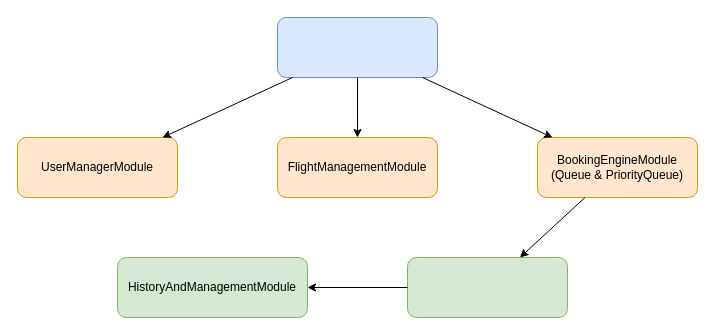
The diagram is 715 pixels wide and 335 high, and some of its shapes have lost their labels. The shapes that lost their labels are listed below. From the top down, each one's centre as x and y in pixels, then its label:
At point (357, 47): "Terminal CLI (main.py)".
At point (487, 287): "PaymentAndTicketModule".
